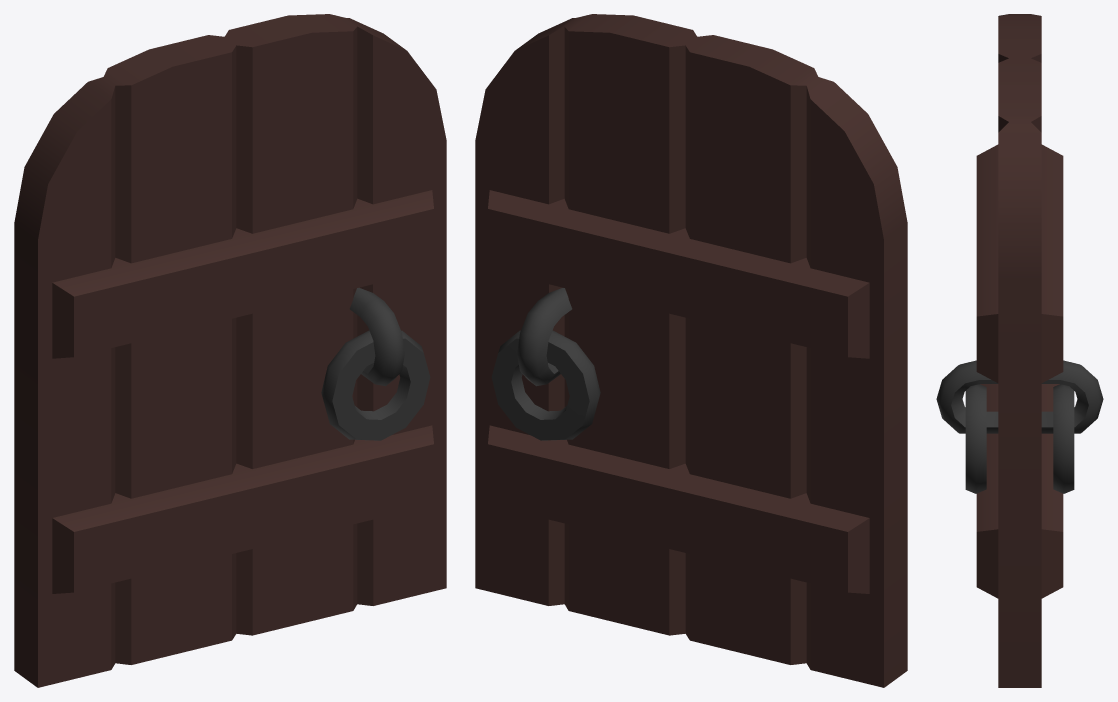
File: door.fbx
The picture shows the model from 3 angles, left to right: view 1: azimuth 30°, elevation 25°; view 2: azimuth 150°, elevation 25°; view 3: azimuth 270°, elevation 25°; orthographic projection. The views are drawn at different scales.
Parts seen in each view (by area): view 1: door; view 2: door; view 3: door.
Part boxes in pixels (x1,y1,x2,y2): door: (14,14,446,687); door: (475,14,907,687); door: (936,14,1103,687).
Bounding box in the file's own units: 200 × 275 × 77.35.
